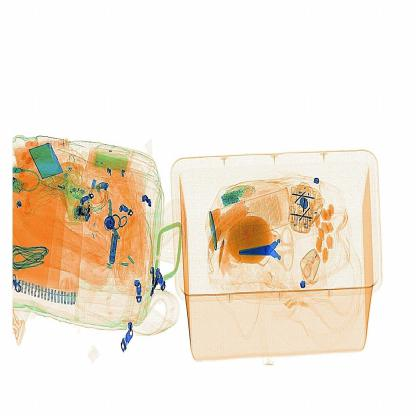gun: (235, 226, 305, 272)
